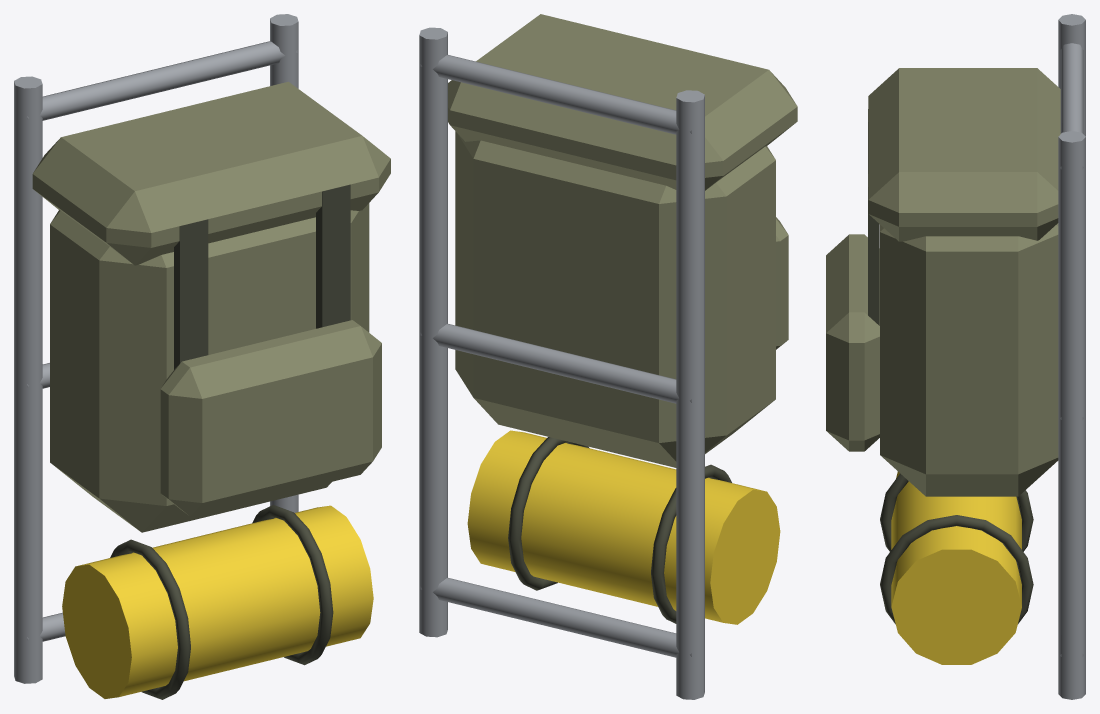
File: item_hauler.glb
3 views of the same model, side by side, from view 1: azimuth 30°, elevation 25°; view 2: azimuth 150°, elevation 25°; view 3: azimuth 270°, elevation 25° (orthographic). The views are drawn at different scales.
Parts seen in each view (by area): view 1: hauler; view 2: hauler; view 3: hauler.
Boxes of the visible parts, bbox=[...] form: hauler: bbox=[14, 14, 390, 699]; hauler: bbox=[419, 14, 797, 699]; hauler: bbox=[826, 14, 1085, 699].
Size of the model in its own units: 0.4 by 0.8 by 0.338.
